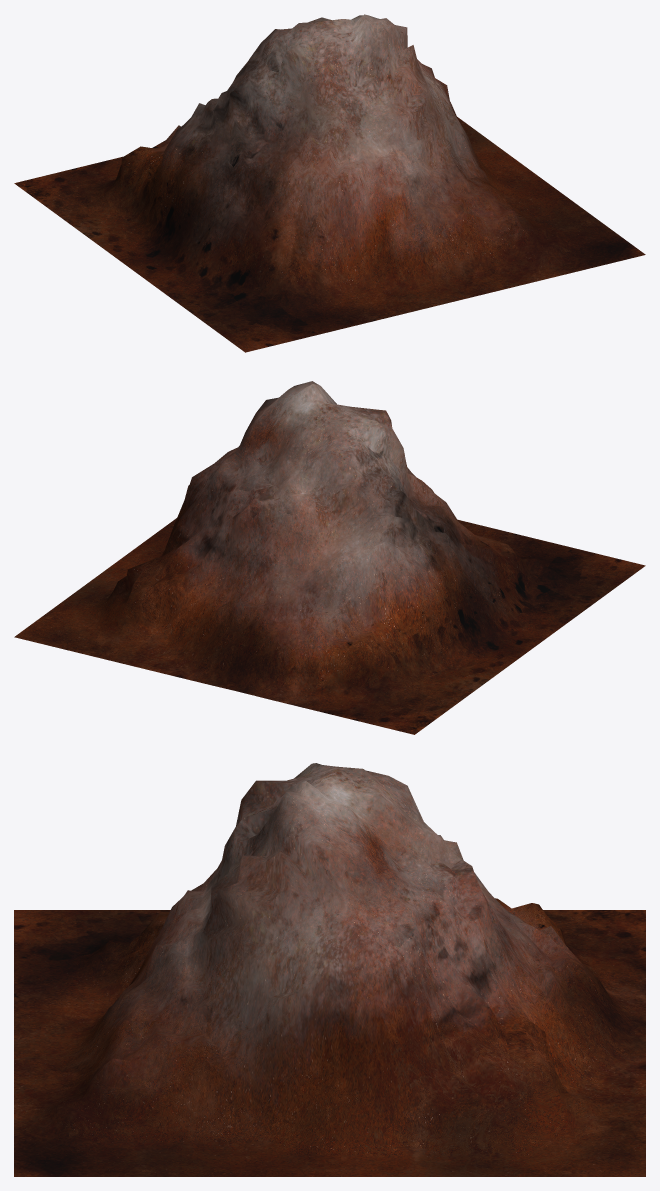
The model's file is Dirtpile_2.1.fbx.
3 renders of one model, top to bottom at view 1: azimuth 30°, elevation 25°; view 2: azimuth 150°, elevation 25°; view 3: azimuth 270°, elevation 25°, orthographic. The views are drawn at different scales.
Visible parts, largest first — view 1: pPlane1; view 2: pPlane1; view 3: pPlane1.
Boxes of the visible parts, x1,y1,x2,y2 form: pPlane1: (14, 14, 645, 352); pPlane1: (14, 381, 645, 734); pPlane1: (14, 763, 645, 1176).
Size of the model in its own units: 23.28 by 11.37 by 23.28.
